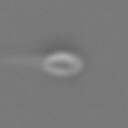normal: (1, 52, 45, 70)
